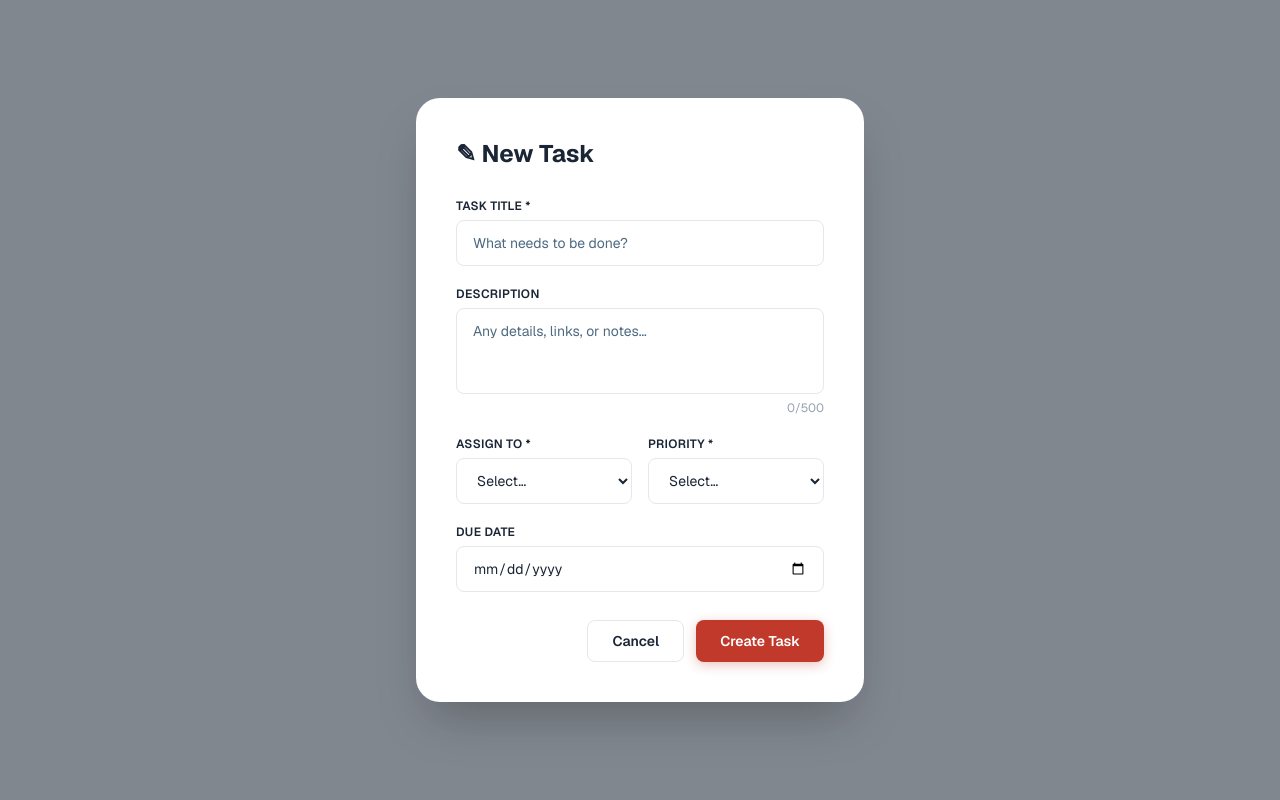
Scenario: TaskFormModal error handling (CR-13) › clears the previous error when a new submit starts
In the field labelled "Task title *": (640, 243) [456,220,824,266], type "Buy groceries"
Select "Alice" in the dropdown labelled "Assign to *": (544, 481) [456,458,632,504]
Select "Medium" in the dropdown labelled "Priority *": (736, 481) [648,458,824,504]
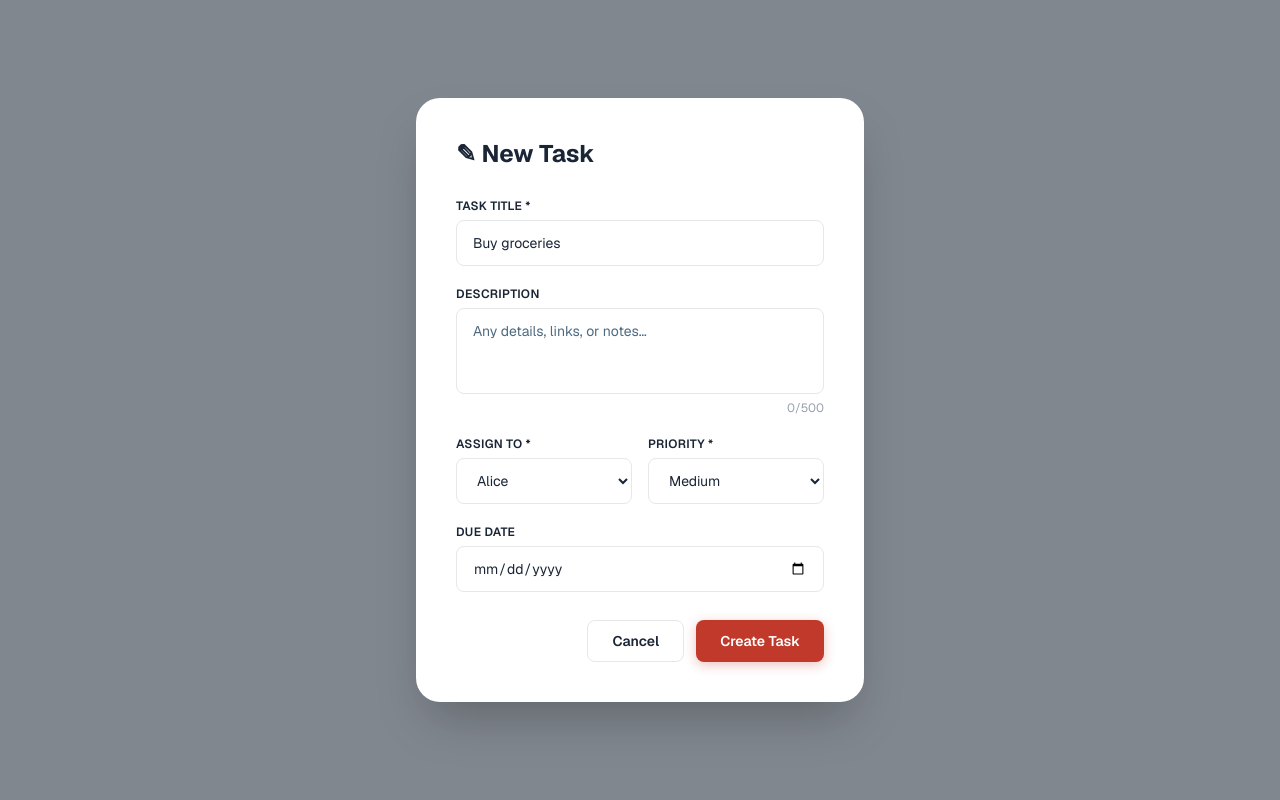
Click the button "Create Task": (760, 641) [696,620,824,662]
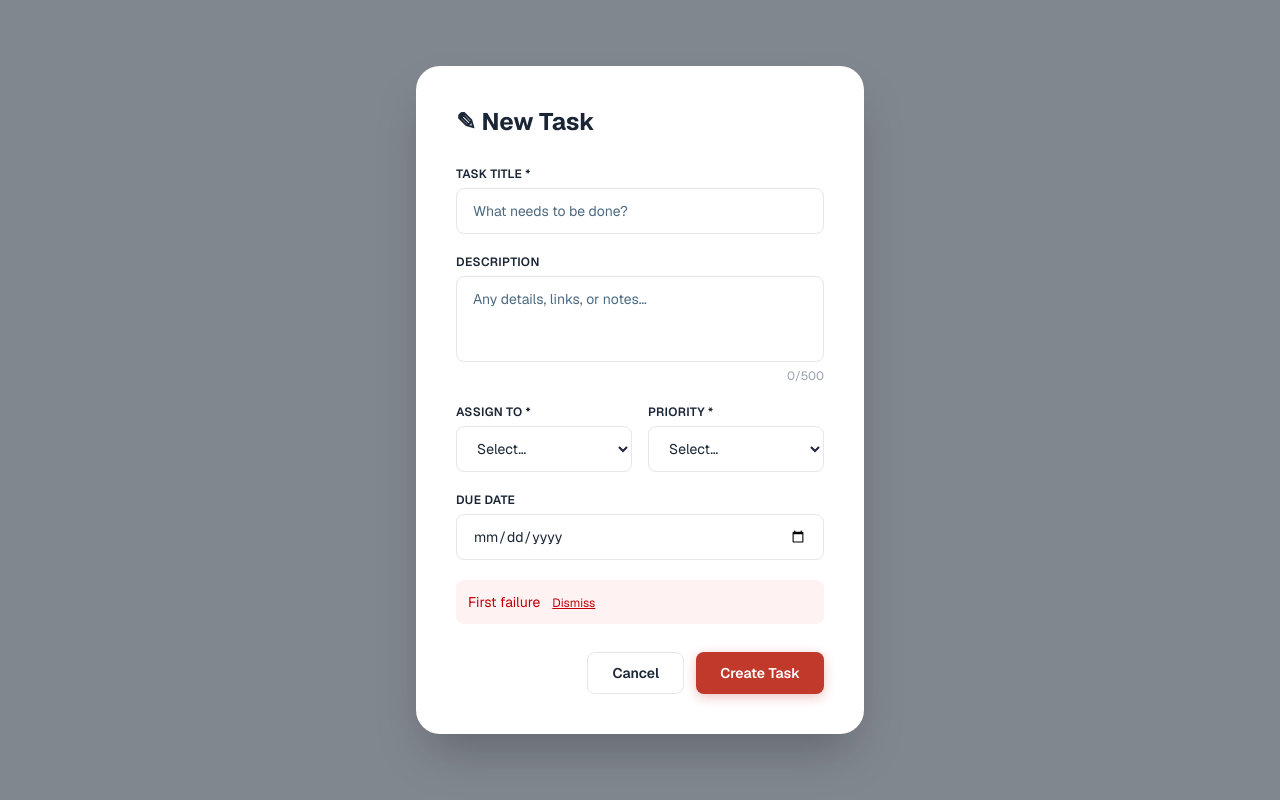
Expected: the message shows "First failure", [468,593,540,611]
In the field labelled "Task title *": (640, 211) [456,188,824,234], type "Buy groceries"
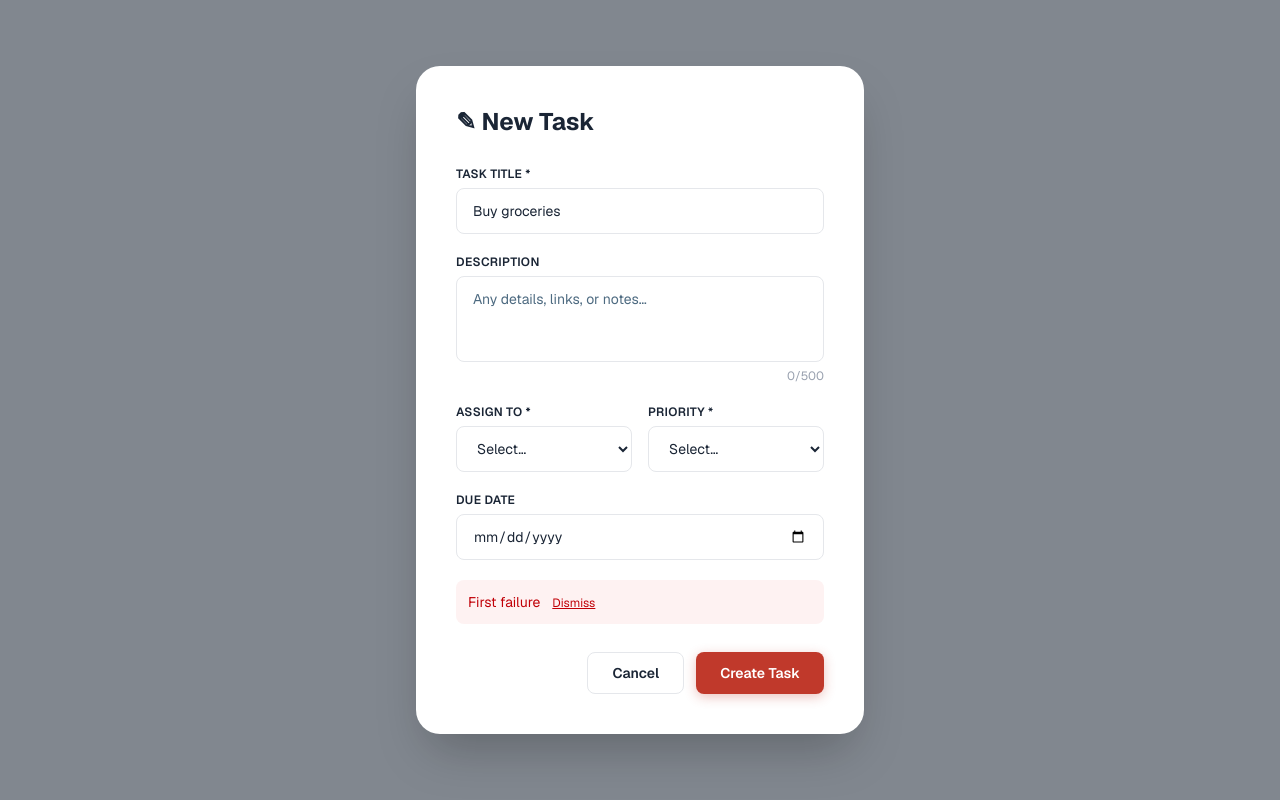
Select "Alice" in the dropdown labelled "Assign to *": (544, 449) [456,426,632,472]
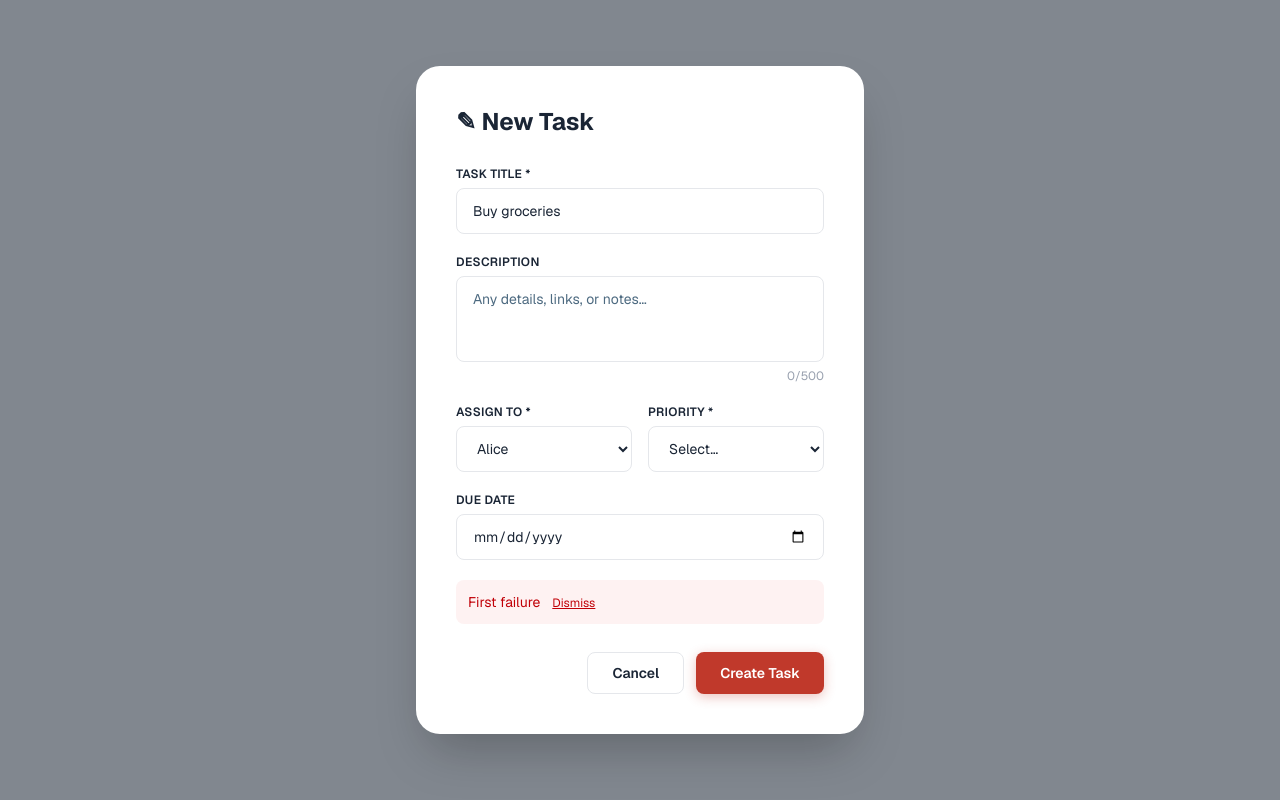
Select "Medium" in the dropdown labelled "Priority *": (736, 449) [648,426,824,472]
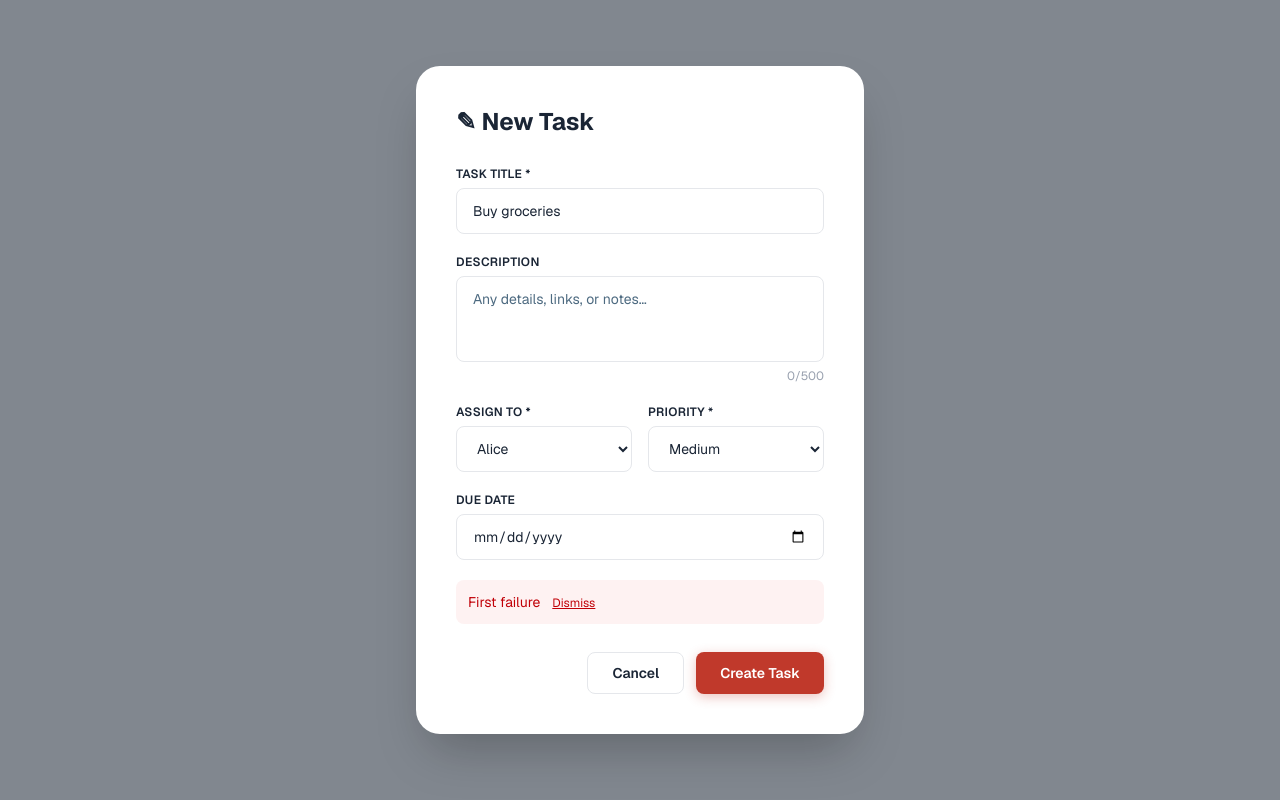
Click the button "Create Task": (760, 673) [696,652,824,694]
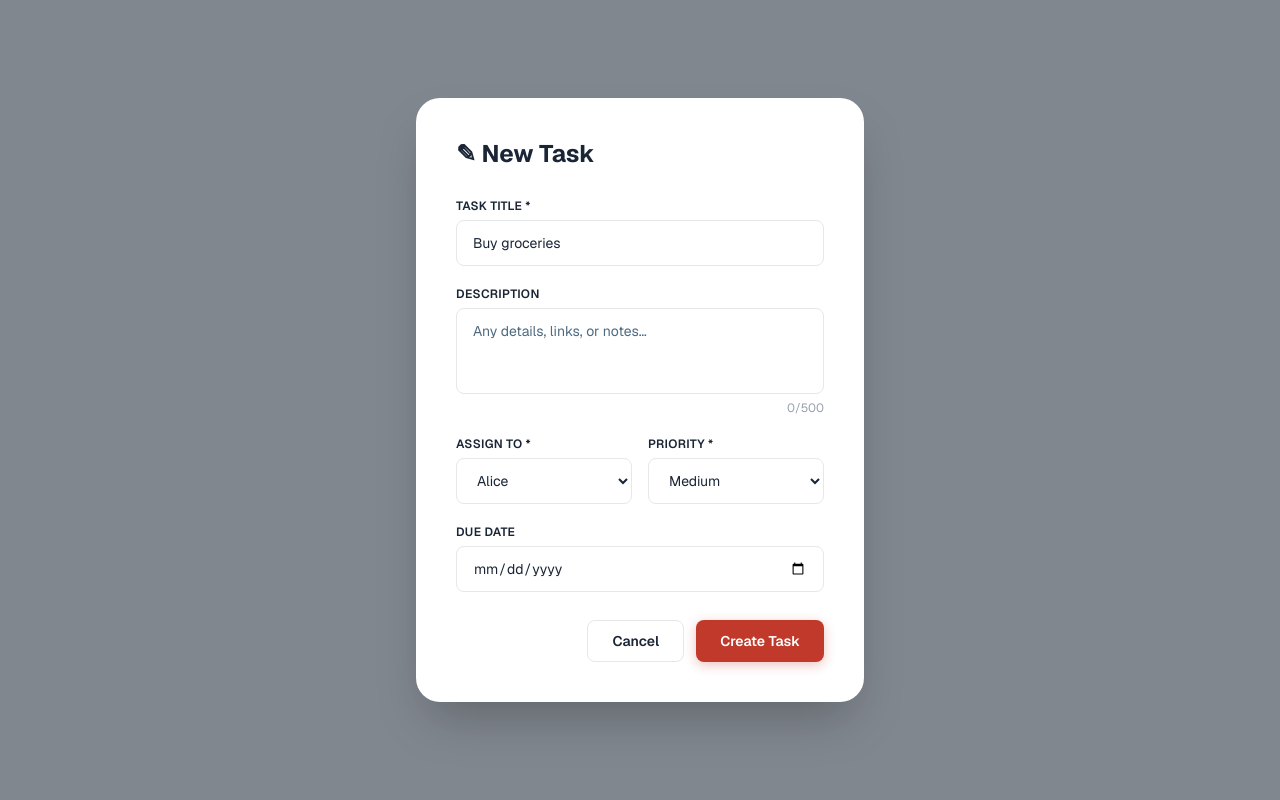
Expected: the message "First failure Dismiss" is gone
